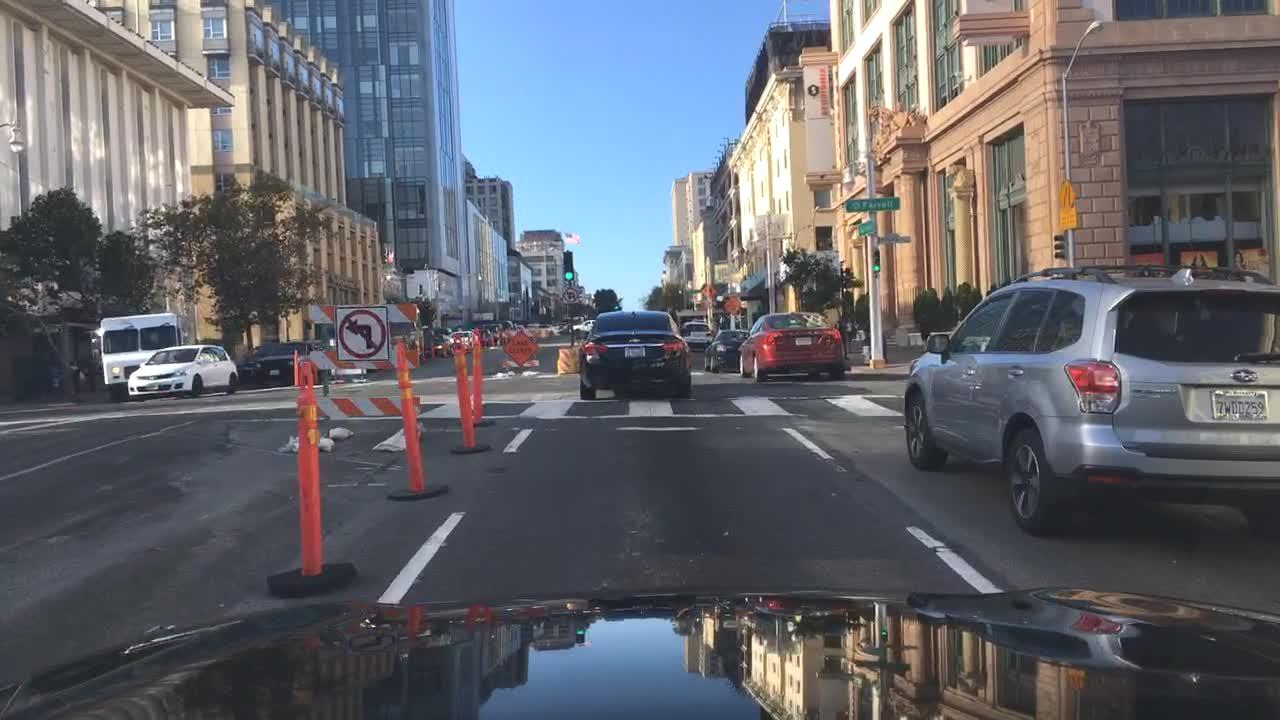chevrolet: (626, 336, 644, 344)
subaru: (1228, 367, 1270, 392)
